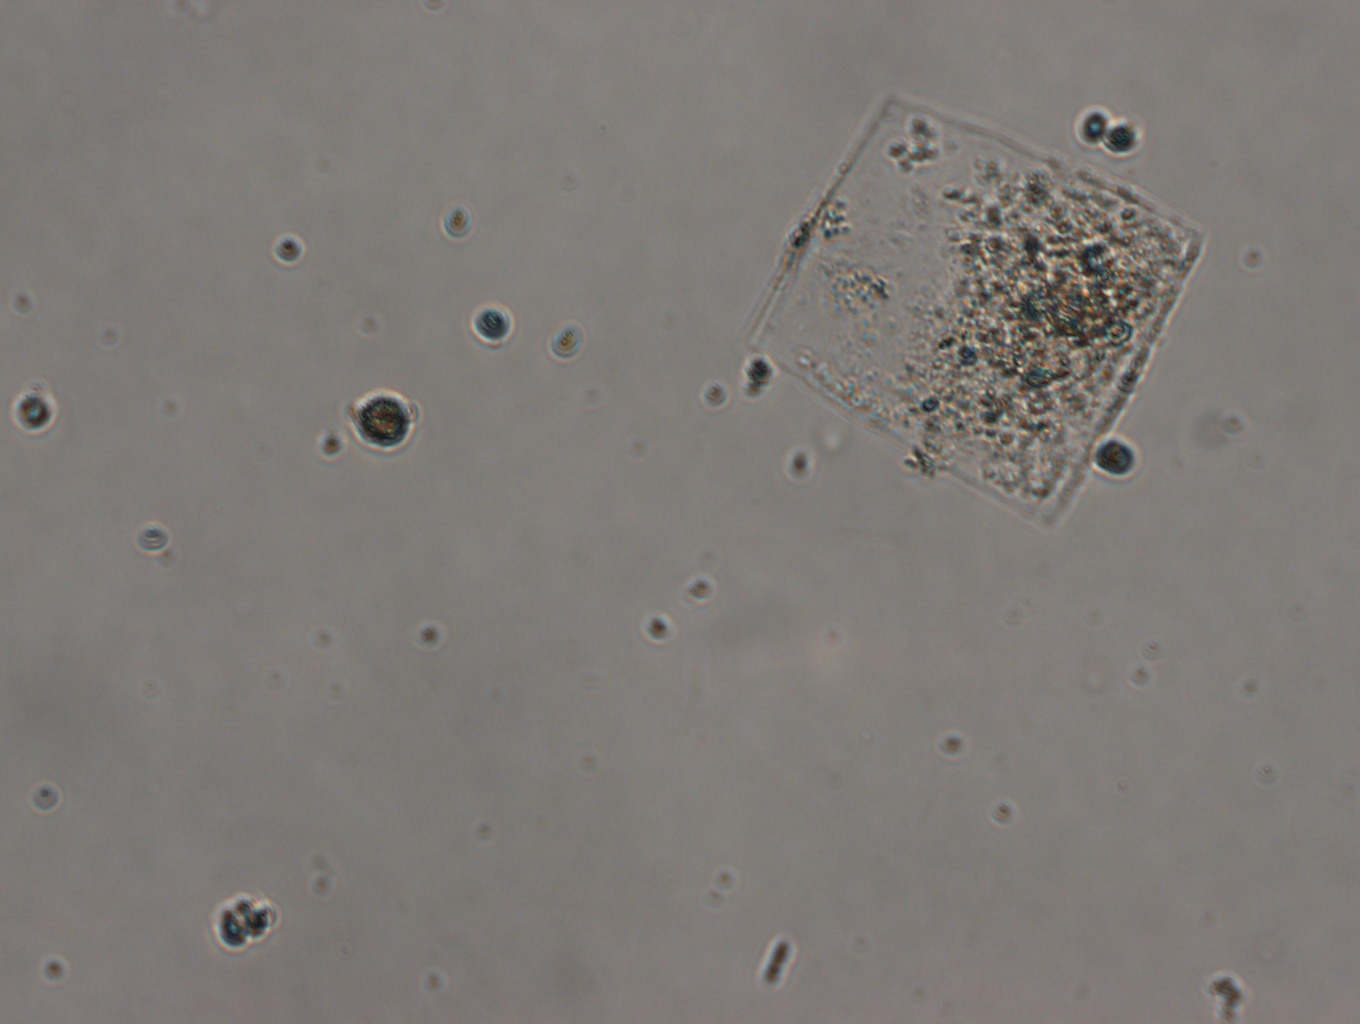helicotheca: (743, 88, 1209, 530)
